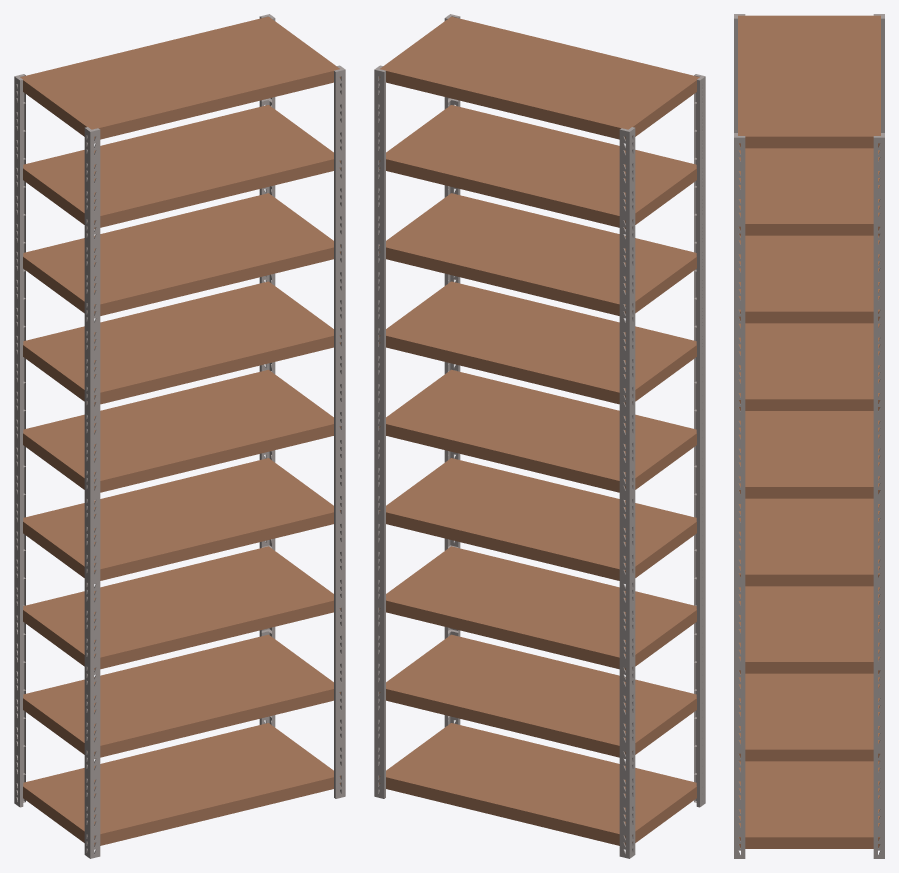
Rendered from Shelf_Tall.fbx.
The picture shows the model from 3 angles, left to right: view 1: azimuth 30°, elevation 25°; view 2: azimuth 150°, elevation 25°; view 3: azimuth 270°, elevation 25°; orthographic projection.
Parts seen in each view (by area): view 1: Cube, Cube.001; view 2: Cube, Cube.001; view 3: Cube, Cube.001.
Boxes of the visible parts, x1,y1,x2,y2 form: Cube: [20, 16, 340, 845]; Cube.001: [14, 14, 345, 858]; Cube: [379, 16, 699, 845]; Cube.001: [374, 14, 705, 858]; Cube: [738, 15, 880, 848]; Cube.001: [734, 14, 884, 858].
Bounding box in the file's own units: 410 × 1114 × 211.
